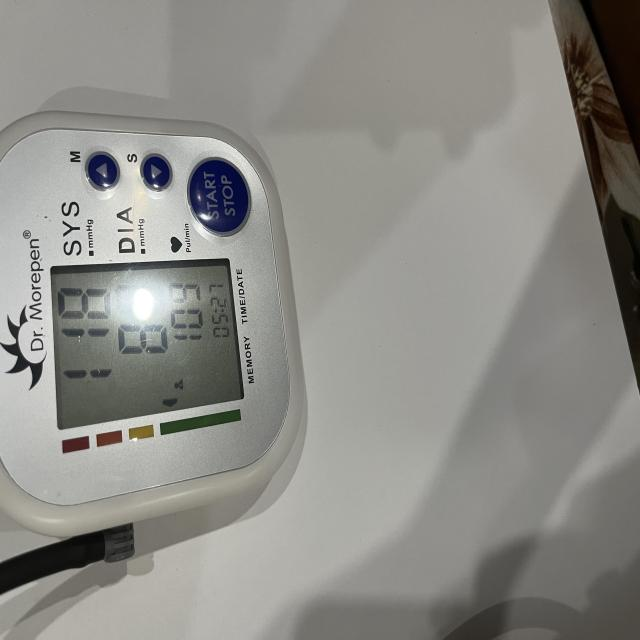bp: (0, 91, 302, 552)
